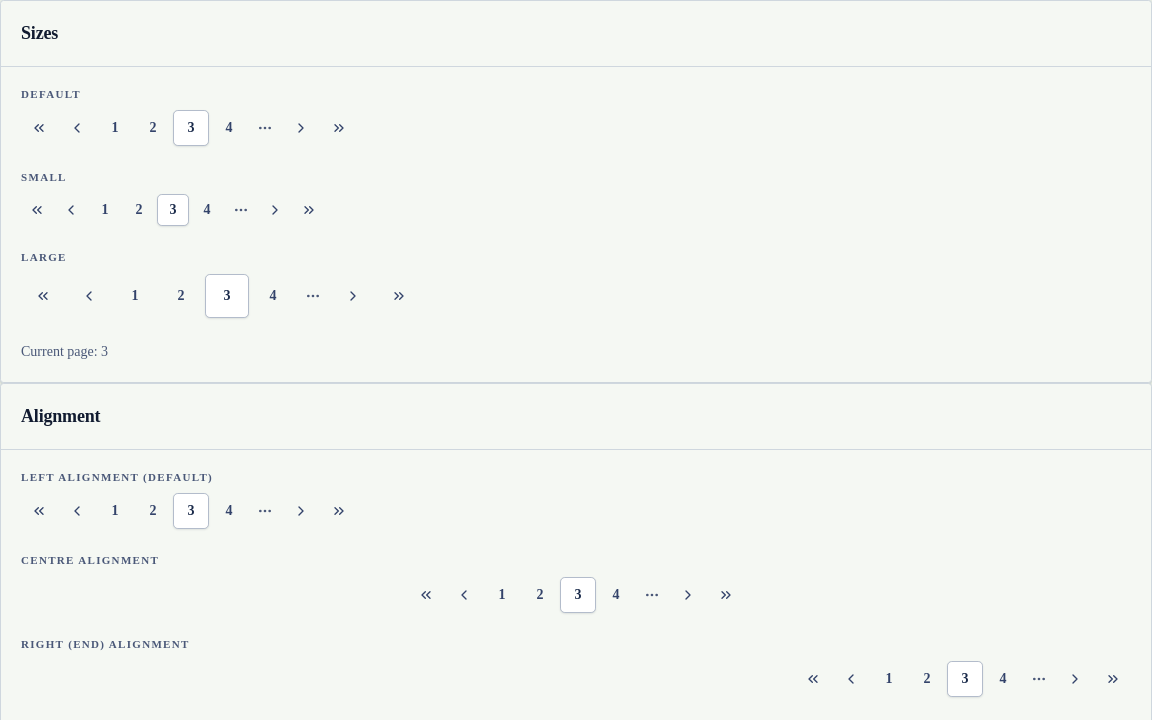
PagerDemos › moves every bar to the page clicked in one of them
The width and height of the screenshot is (1152, 720).
What coordinates should you click on to do the following:
click the link named "Page 4"
I would click on:
 (207, 210)
Its box is x1=204 y1=202 x2=210 y2=217.
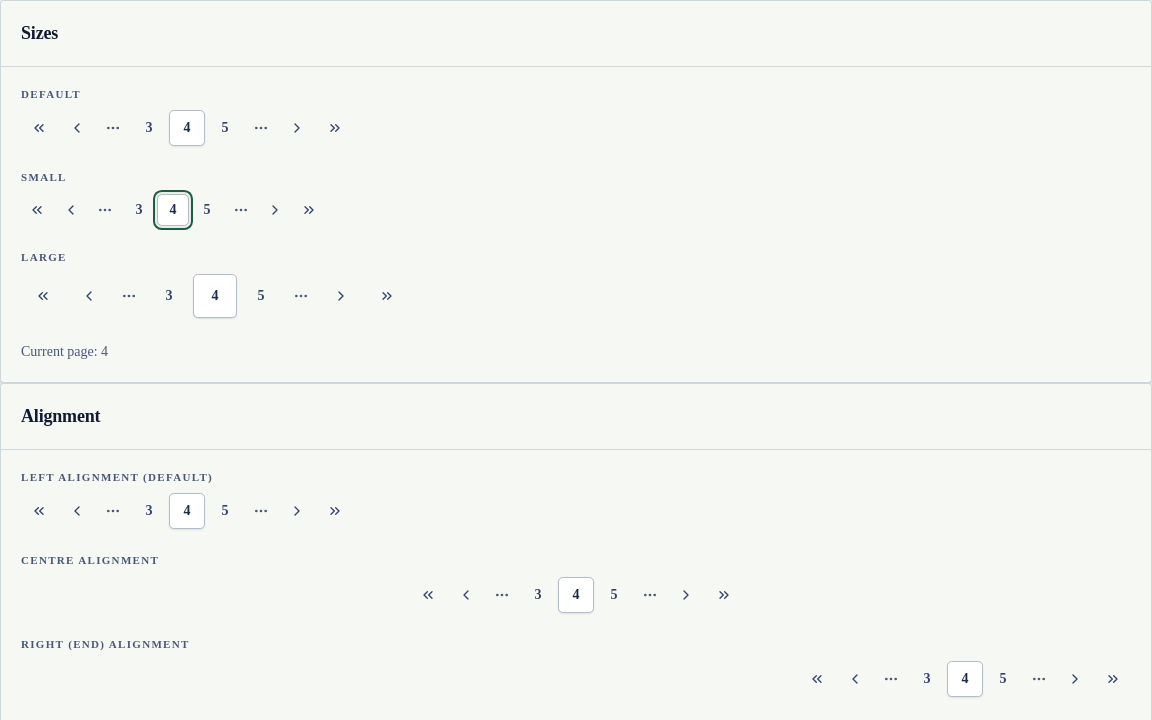
expect the text "Current page: 4" is shown: met, box x1=21 y1=344 x2=108 y2=359
